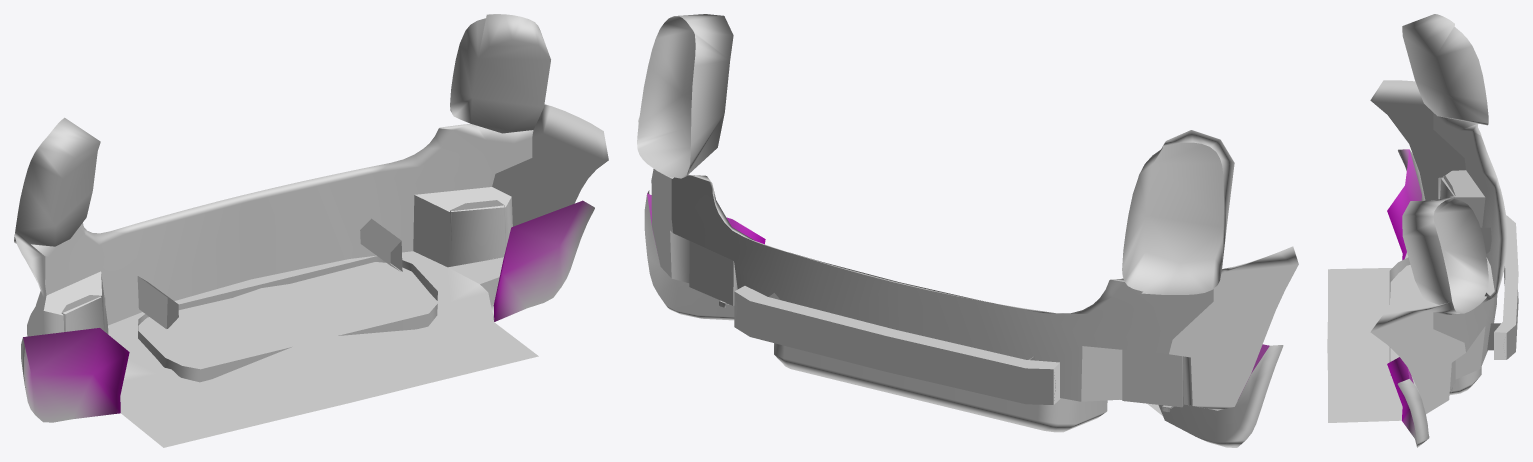
The model's file is Car_Mini_CountrymanJCW_2017_BumperChassisR_SetD_AltD.fbx.
The picture shows the model from 3 angles, left to right: view 1: azimuth 30°, elevation 25°; view 2: azimuth 150°, elevation 25°; view 3: azimuth 270°, elevation 25°; orthographic projection. The views are drawn at different scales.
Visible parts, largest first — view 1: BumperChassisR 6; view 2: BumperChassisR 6; view 3: BumperChassisR 6.
Boxes of the visible parts, bbox=[...] form: BumperChassisR 6: bbox=[14, 14, 608, 447]; BumperChassisR 6: bbox=[637, 14, 1298, 447]; BumperChassisR 6: bbox=[1327, 14, 1518, 447].
Bounding box in the file's own units: 1.7 × 0.8115 × 0.5877.
